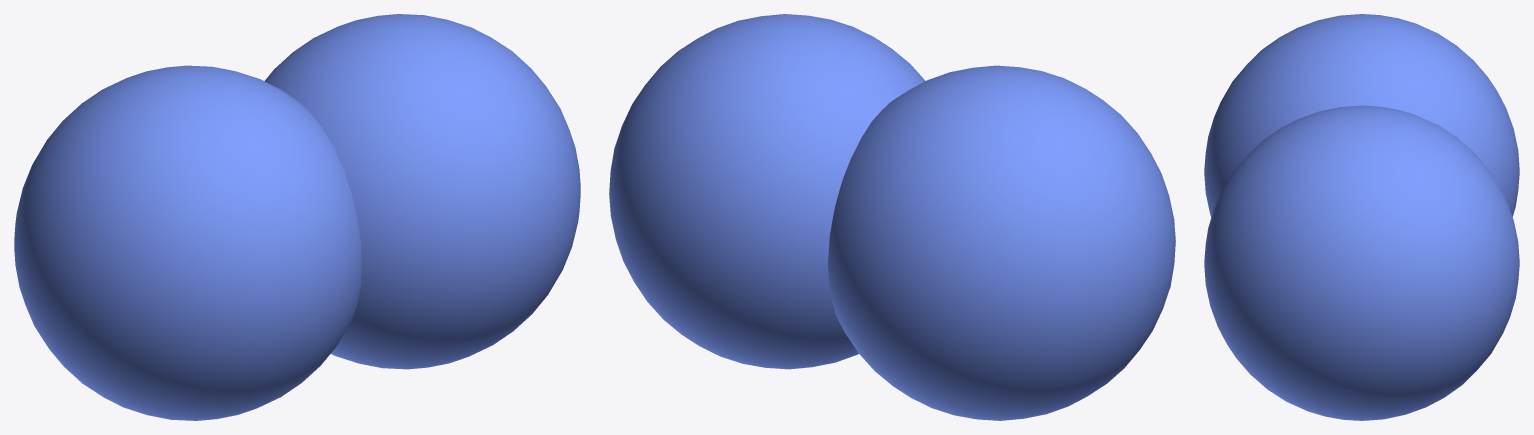
3 views of the same model, side by side, from view 1: azimuth 30°, elevation 25°; view 2: azimuth 150°, elevation 25°; view 3: azimuth 270°, elevation 25° (orthographic). The views are drawn at different scales.
Visible parts, largest first — view 1: N_Atom, N_Atom_1; view 2: N_Atom, N_Atom_1; view 3: N_Atom_1, N_Atom.
Boxes of the visible parts, x1,y1,x2,y2 form: N_Atom: (14, 65, 361, 420); N_Atom_1: (264, 14, 580, 369); N_Atom: (828, 65, 1175, 420); N_Atom_1: (609, 14, 925, 369); N_Atom_1: (1204, 105, 1519, 420); N_Atom: (1204, 14, 1519, 217).
Size of the model in its own units: 2.61 by 1.55 by 1.55.
